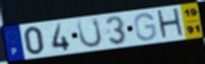0: (23, 26, 46, 56)
3: (104, 15, 129, 47)
4: (50, 22, 72, 53)
G: (133, 12, 158, 42)
H: (155, 7, 186, 41)
U: (76, 17, 104, 50)
